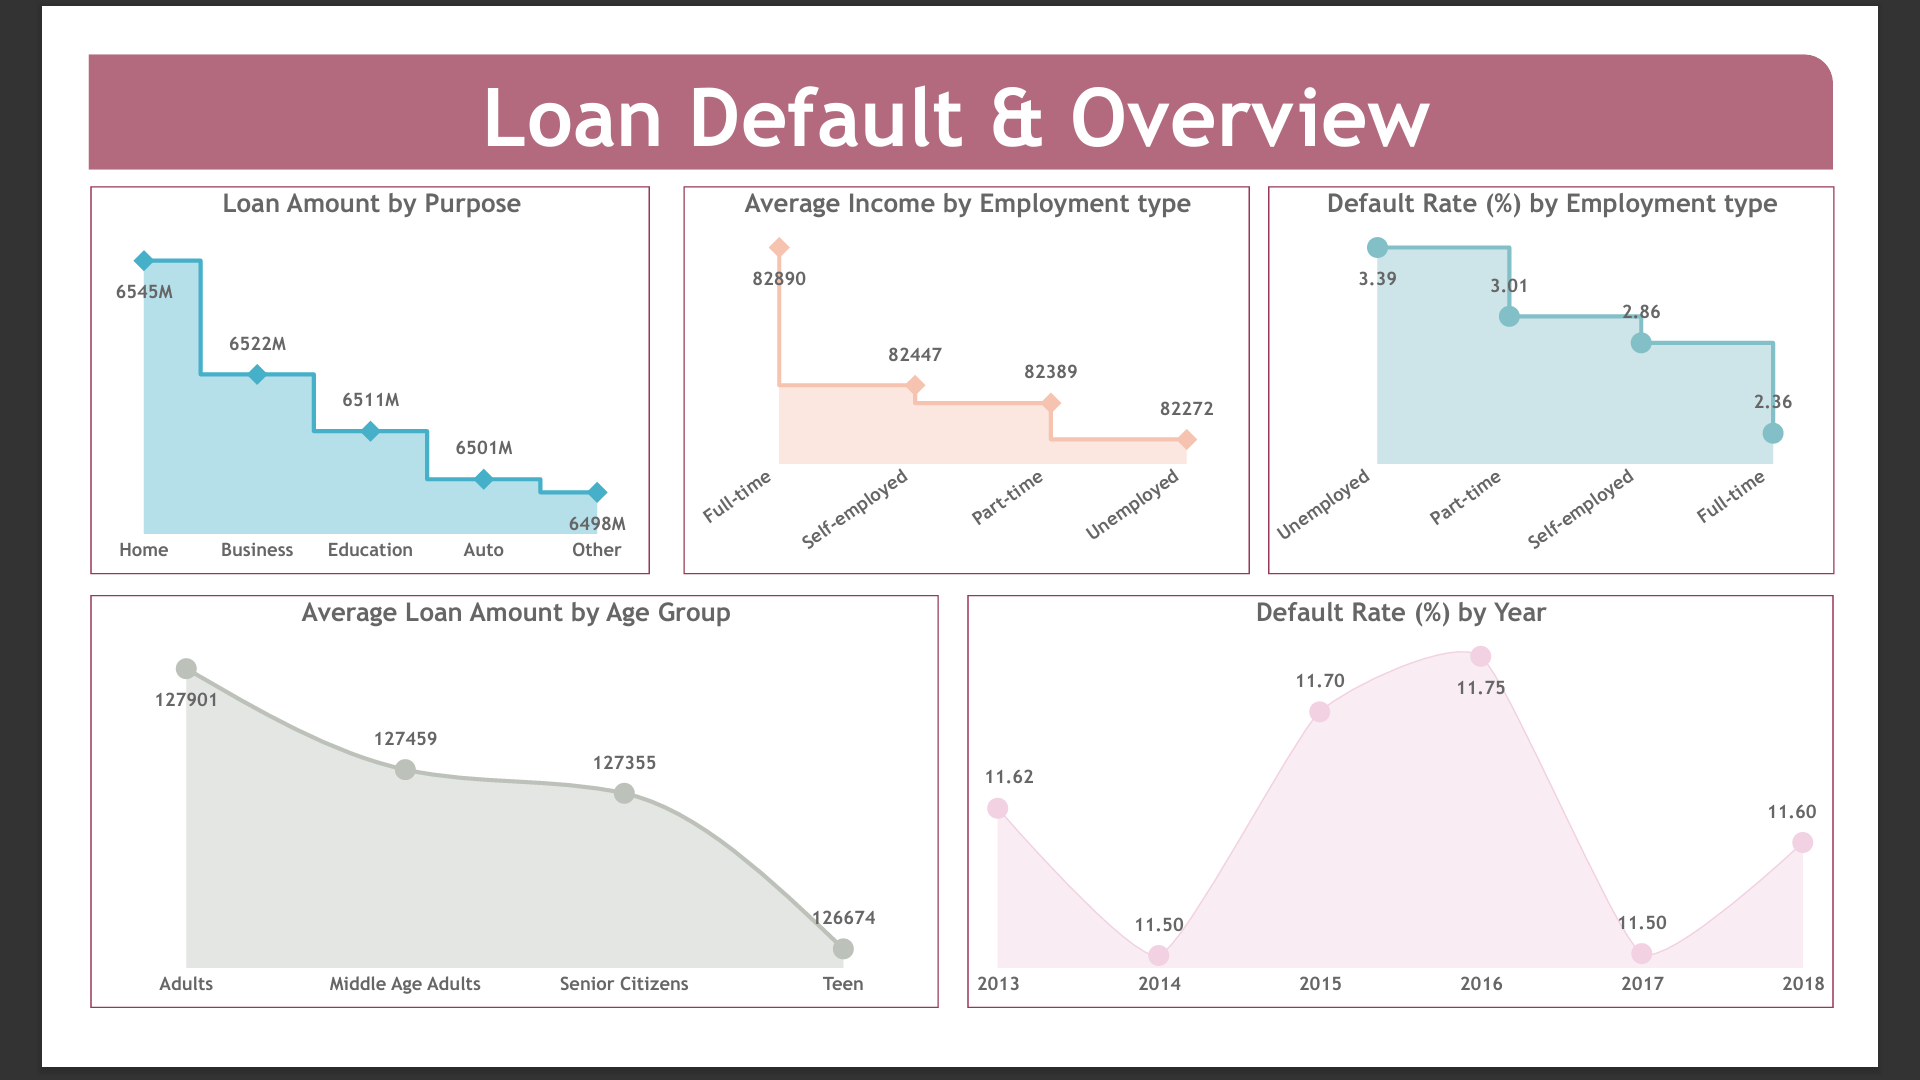

The page's visual inventory and layout, read from the dashboard file:
{"tool":"powerbi","page":{"name":"Loan Default & Overview","canvas":[1280,720],"ordinal":0},"visuals":[{"type":"shape","box":[8.6,0,1259.5,99],"z":0},{"type":"lineChart","title":"Loan Amount By Purpose ","fields":{"Y":["Measure 1.Loan Amount By Purpose"],"Category":["Loan_default.LoanPurpose"]},"box":[8.6,111.3,419.4,286.1],"z":1000},{"type":"lineChart","title":"Average Income By Employment Type","fields":{"Category":["Loan_default.EmploymentType"],"Y":["Measure 1.Average Income By Employment Type"]},"box":[439,111.3,397.4,286.1],"z":2000},{"type":"lineChart","title":"Default Rate (%) By Employment Type","fields":{"Category":["Loan_default.EmploymentType"],"Y":["Measure 1.Default Rate By Employment Type"]},"box":[846.2,111.3,421.9,286.1],"z":3000},{"type":"lineChart","title":"Average Loan Amount By Age Group","fields":{"Y":["Measure 1.Average Loan By Age Groups"],"Category":["Loan_default.Age Group"]},"box":[7.3,407.2,631,299.6],"z":4000},{"type":"lineChart","title":"Default Rate (%) By Year","fields":{"Y":["Measure 1.Default Rate By Year"],"Category":["Loan_default.Year"]},"box":[653,407.2,615.1,299.6],"z":5000}]}

Visuals, with their boxes in screenshot pixels (x1, y1, x2, y2), scaled from the page's 1280x720 canvas onto the 1920x1080 screenshot:
shape: 13, 0, 1902, 148
"Loan Amount By Purpose " lineChart: 13, 167, 642, 596
"Average Income By Employment Type" lineChart: 658, 167, 1255, 596
"Default Rate (%) By Employment Type" lineChart: 1269, 167, 1902, 596
"Average Loan Amount By Age Group" lineChart: 11, 611, 957, 1060
"Default Rate (%) By Year" lineChart: 980, 611, 1902, 1060
